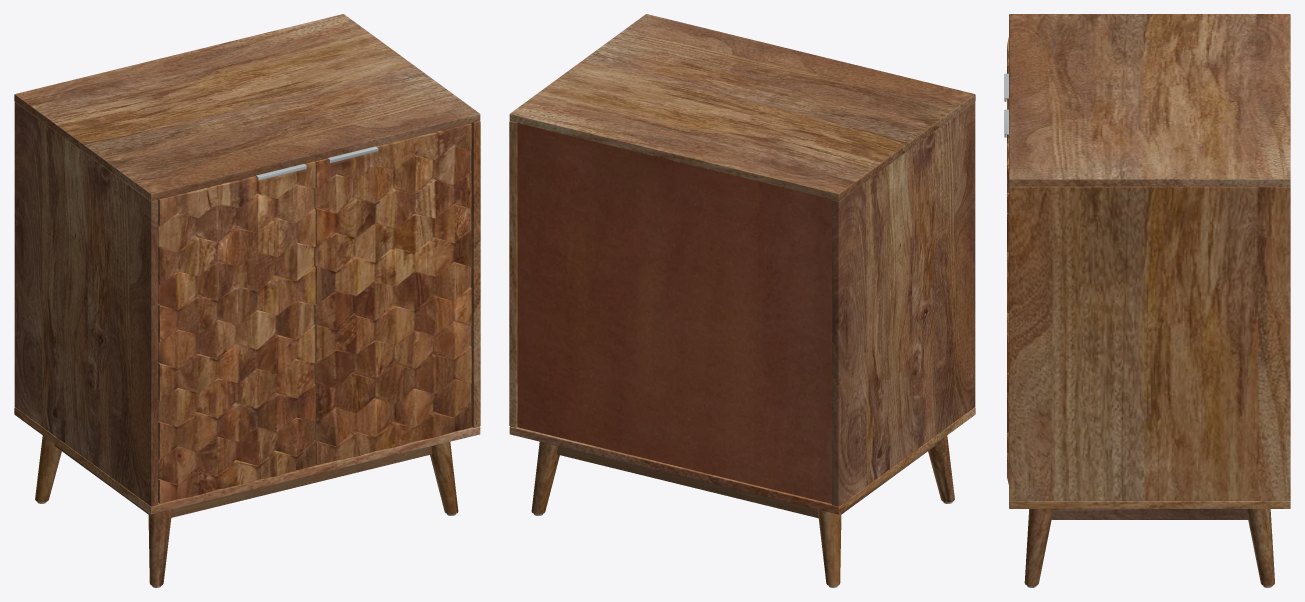
Rendered from B07HSGCNGT.glb.
3 renders of one model, left to right at view 1: azimuth 30°, elevation 25°; view 2: azimuth 150°, elevation 25°; view 3: azimuth 270°, elevation 25°, orthographic. The views are drawn at different scales.
Visible parts, largest first — view 1: RootNode; view 2: RootNode; view 3: RootNode.
Part boxes in pixels (box(x1,y1,x2,y2)): RootNode: box(14, 14, 480, 587); RootNode: box(509, 14, 975, 587); RootNode: box(1004, 14, 1290, 587).
Bounding box in the file's own units: 0.6471 × 0.7578 × 0.4731.
1 material, 1 textured.
